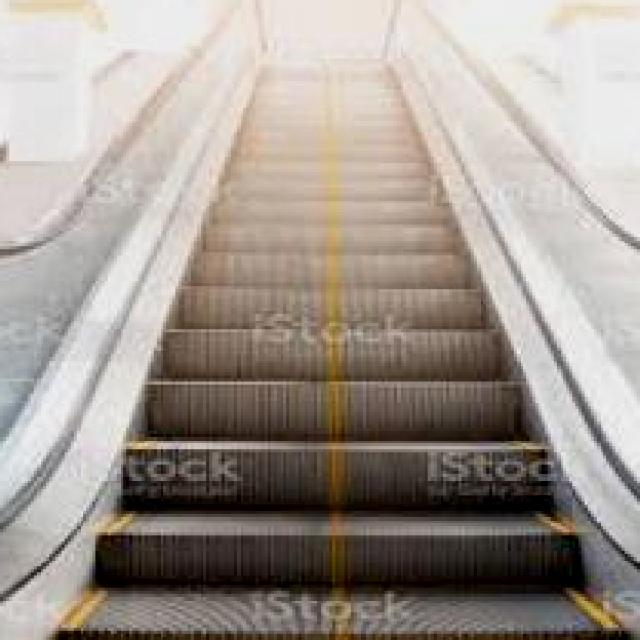upstair: (72, 392, 610, 629)
